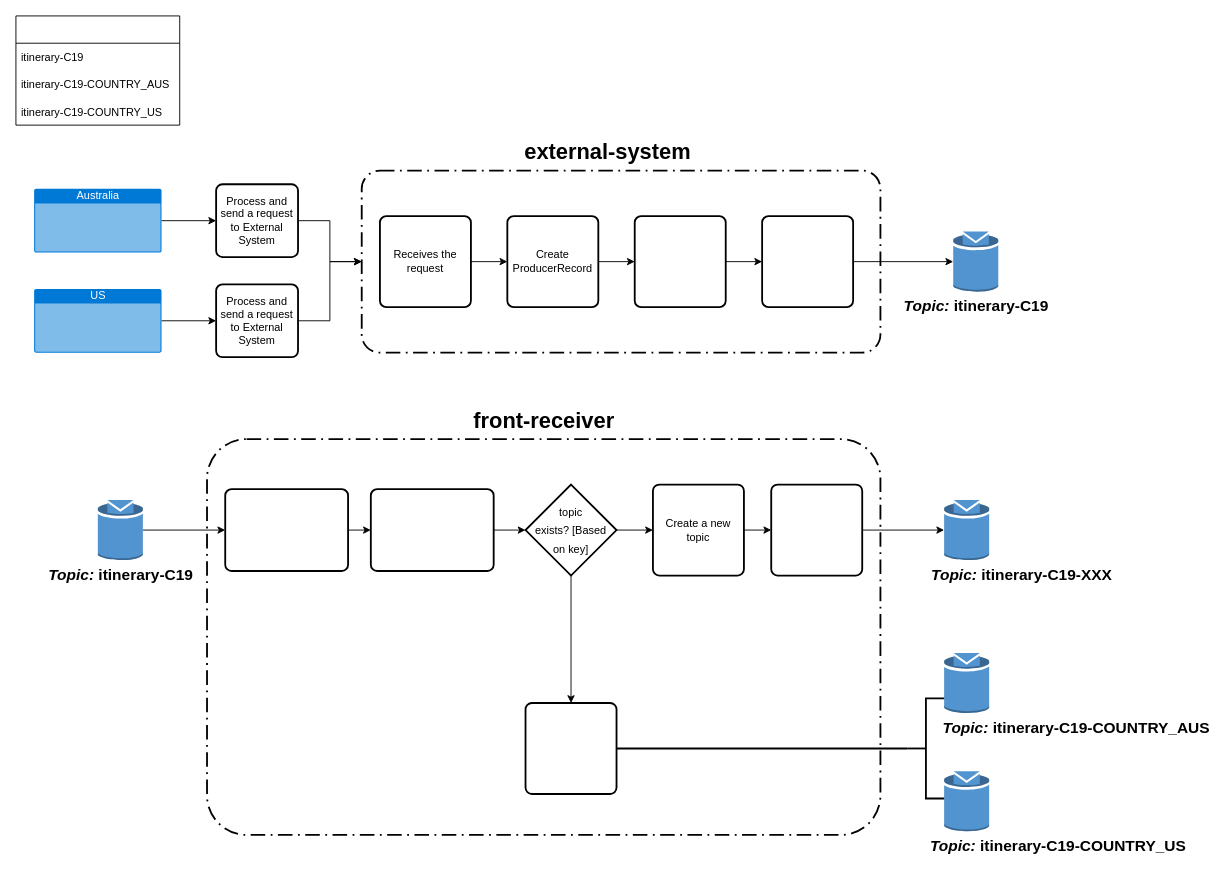
This 1225x872 diagram has some shape labels left out. Each missing label, with the box of its shape:
Add key specific to Country: (633, 215, 726, 308)
Get the Key from the ConsumerRecord: (369, 488, 494, 571)
Kafka Topics: (15, 15, 180, 125)
Poll the ConsumerRecords from itinerary-C19: (224, 488, 349, 571)
Post the message into common pool itinerary-C19: (761, 215, 854, 308)
Post the message into the existing topic: (524, 702, 617, 794)
Post the message into the newly created topic: (770, 483, 863, 576)
